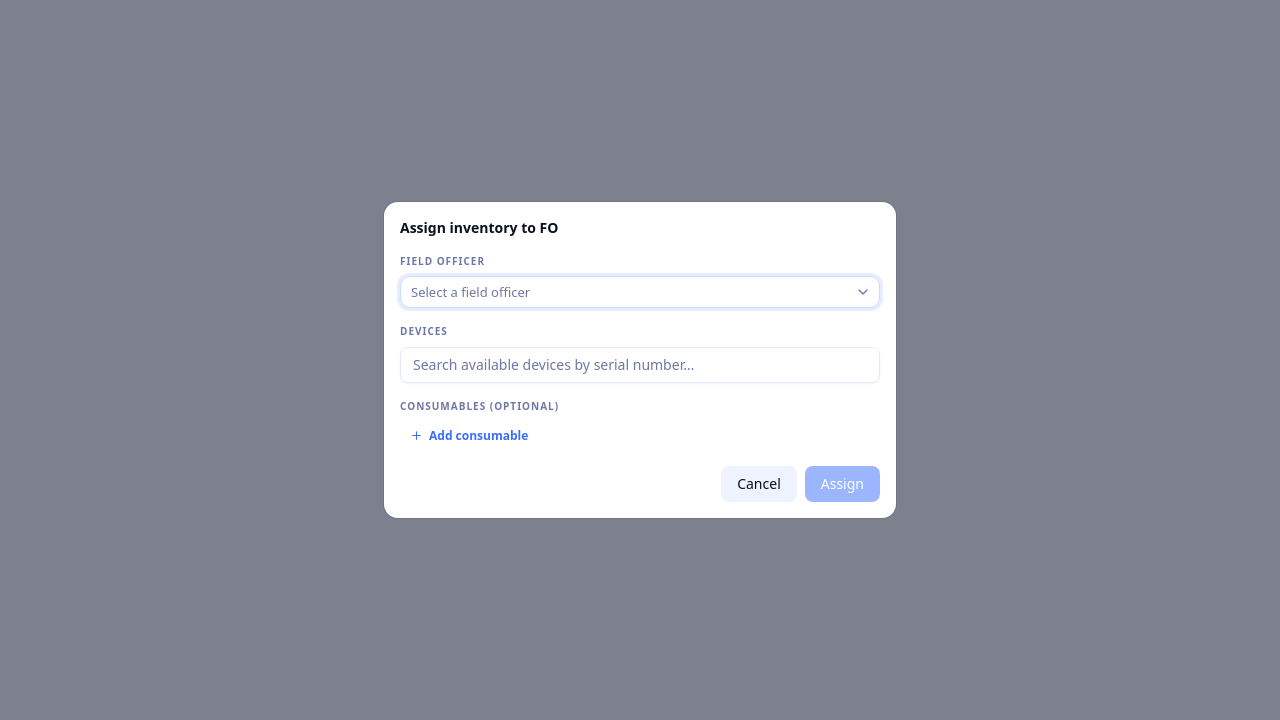
Test: DirectAssignmentModal › flags a duplicate consumable item across two lines with an inline error
Click the button "Add consumable".
click(469, 435)  # box [400,421,538,450]
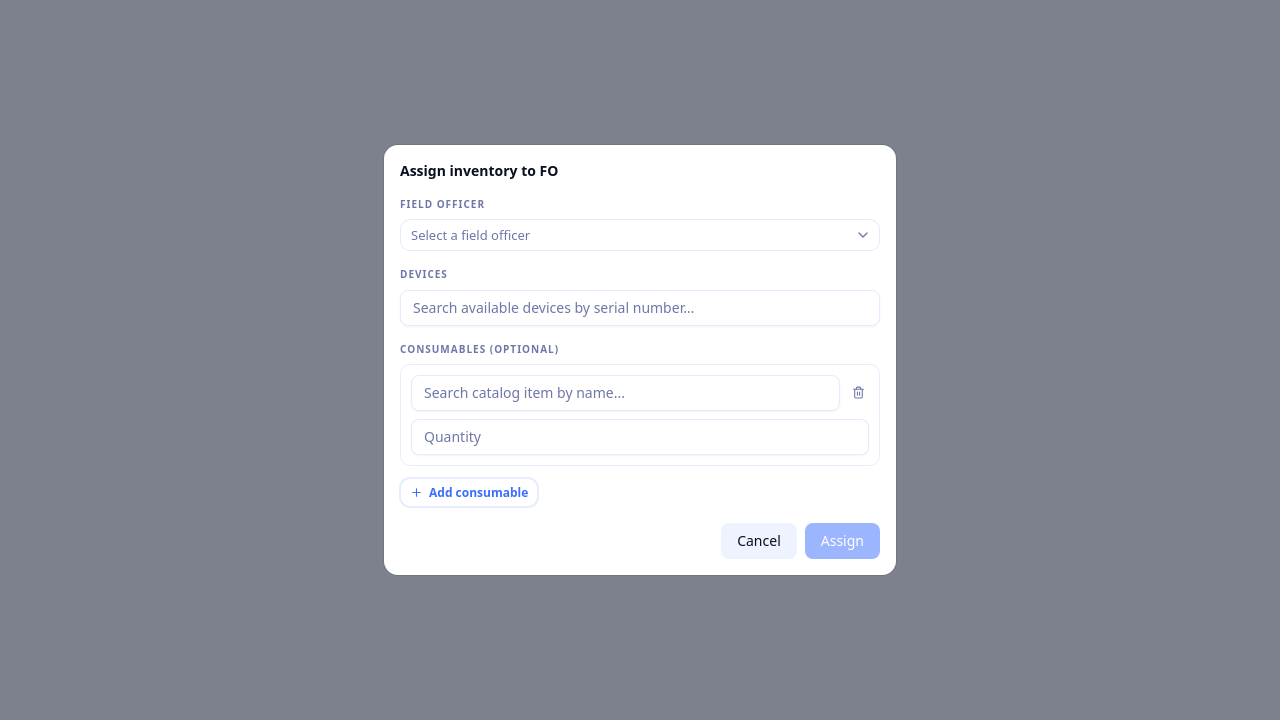
Click the button "Add consumable".
click(469, 492)  # box [400,478,538,507]
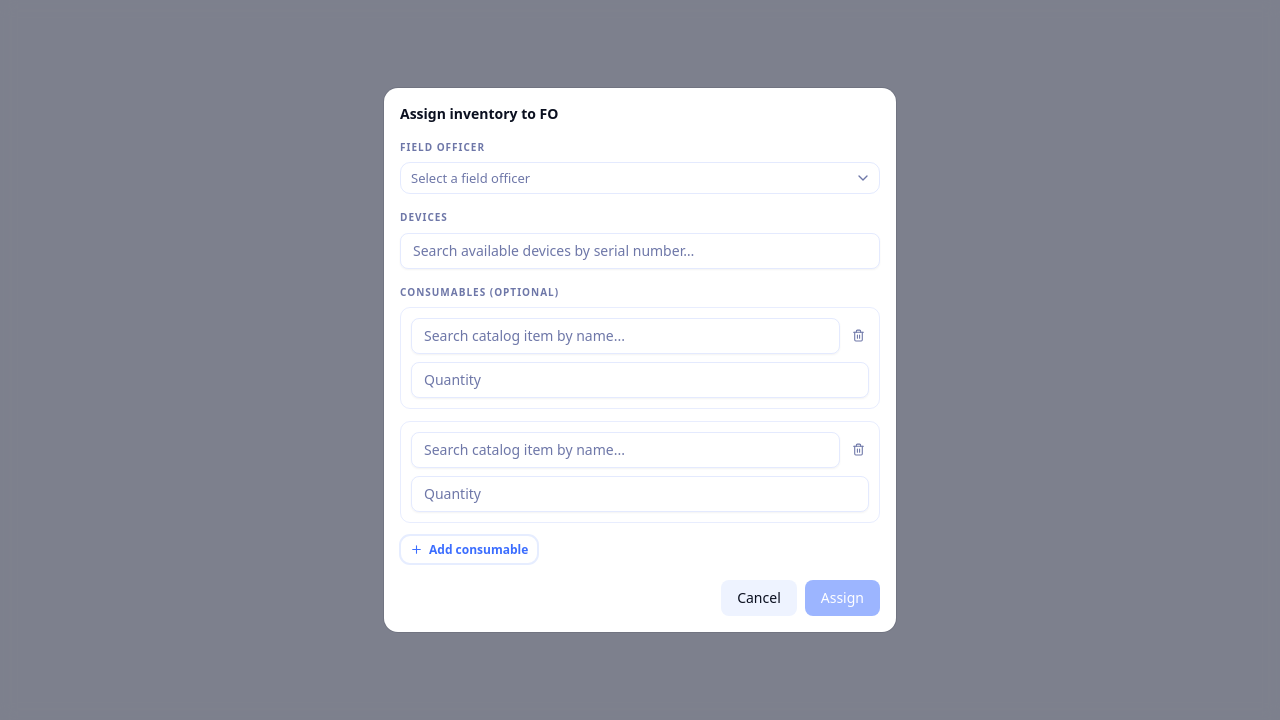
# Line 1's selected-chip display shares the same text as the dropdown option — scope by role.
Type "Gauze" into the 1st field with placeholder "Search catalog item by name...".
click(626, 336); type("Gauze")  # box [411,318,840,354]
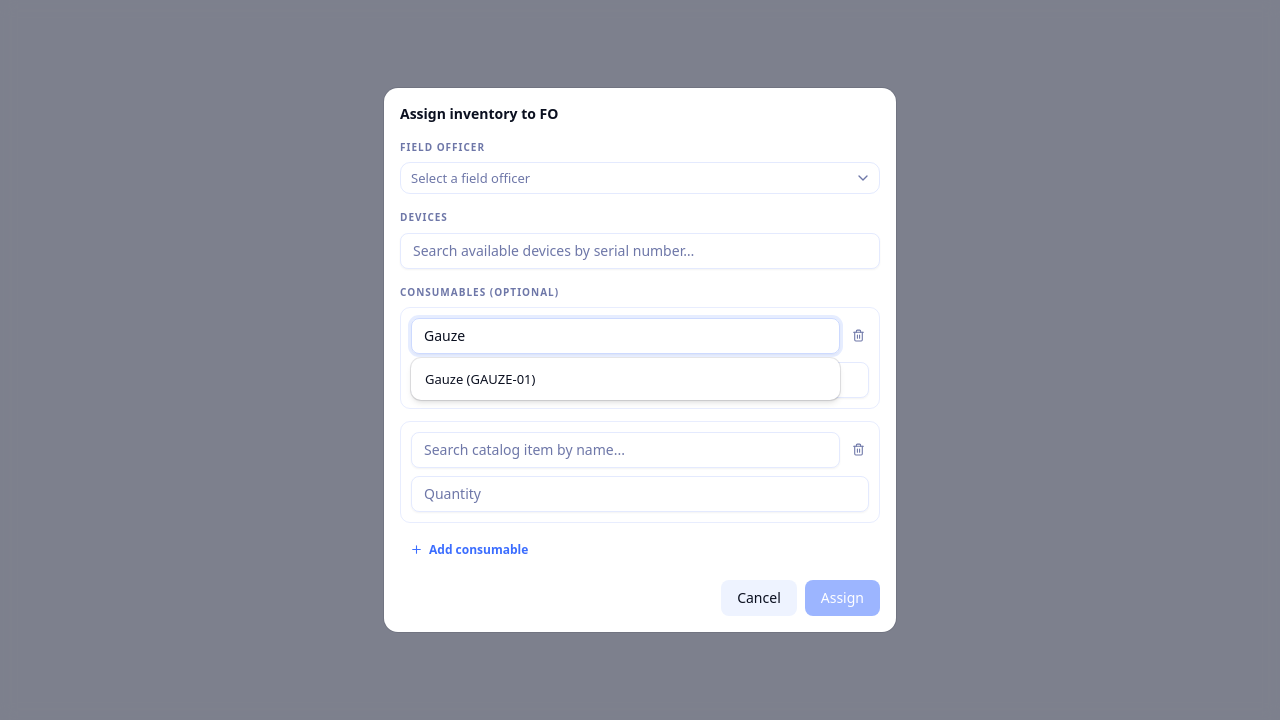
Click the button "Gauze (GAUZE-01)".
click(480, 379)  # box [417,364,834,394]
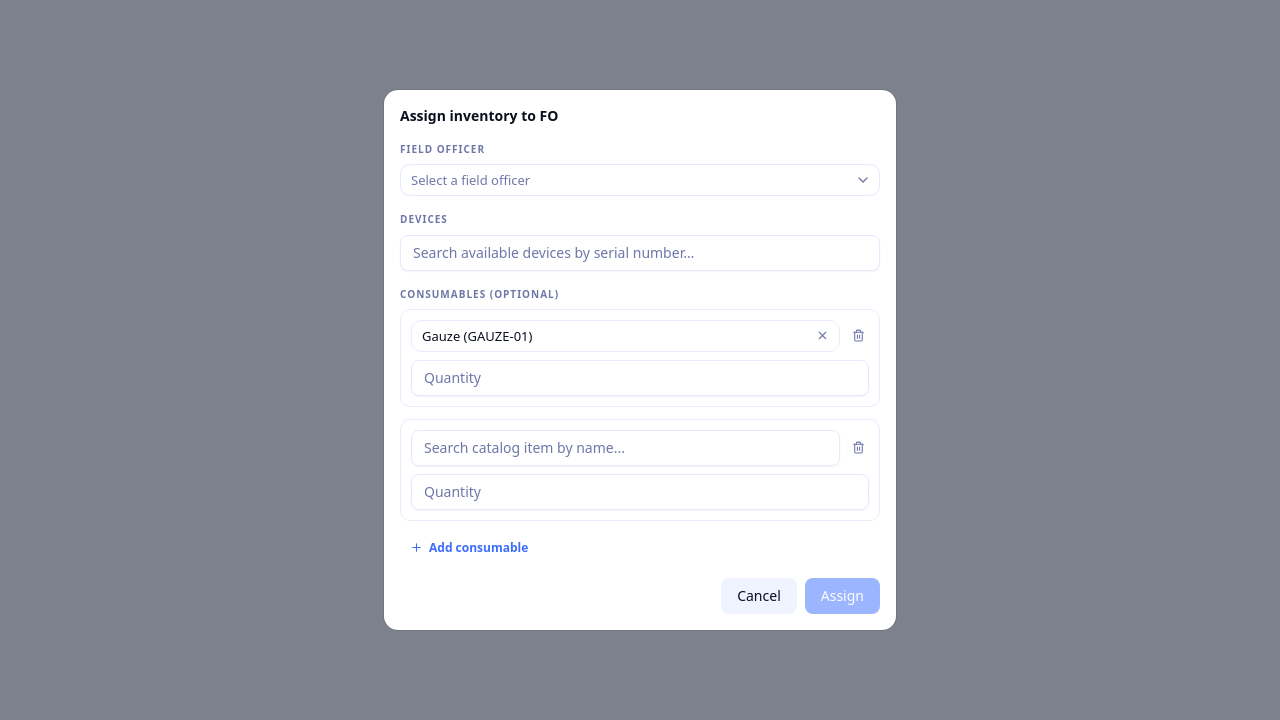
Type "Gauze" into the field with placeholder "Search catalog item by name...".
click(626, 448); type("Gauze")  # box [411,430,840,466]
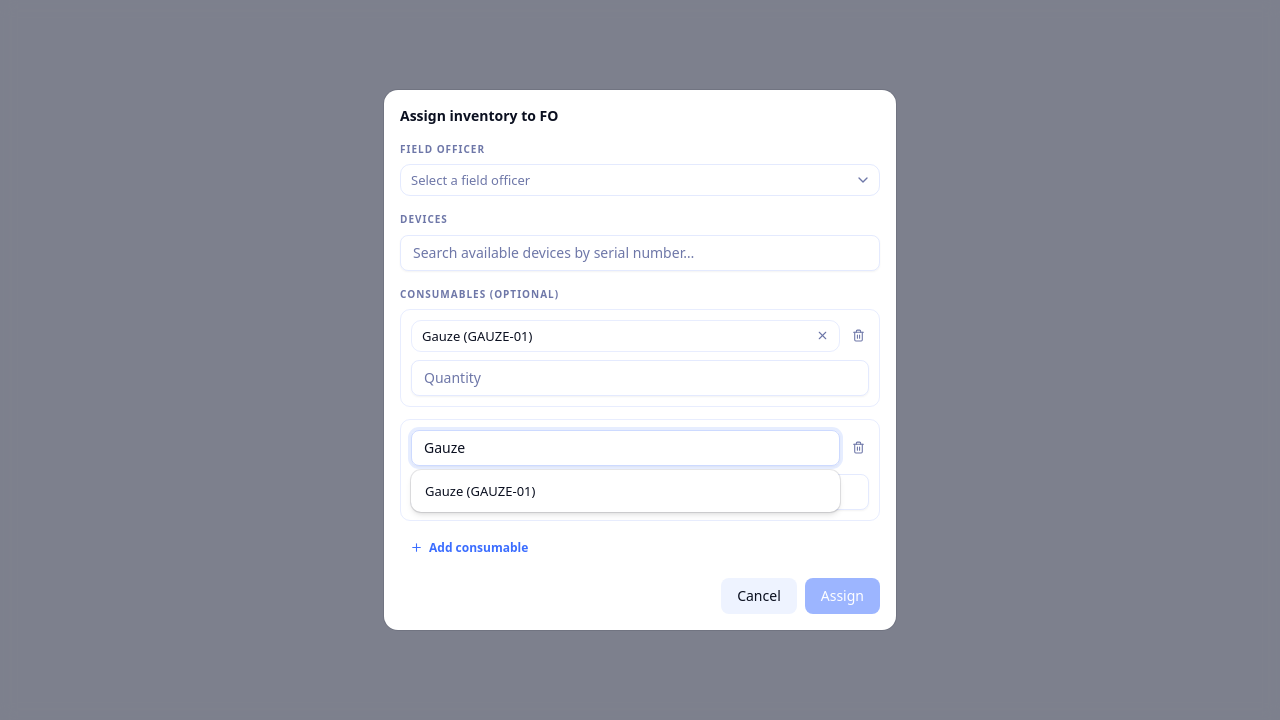
Click the button "Gauze (GAUZE-01)".
click(480, 491)  # box [417,476,834,506]
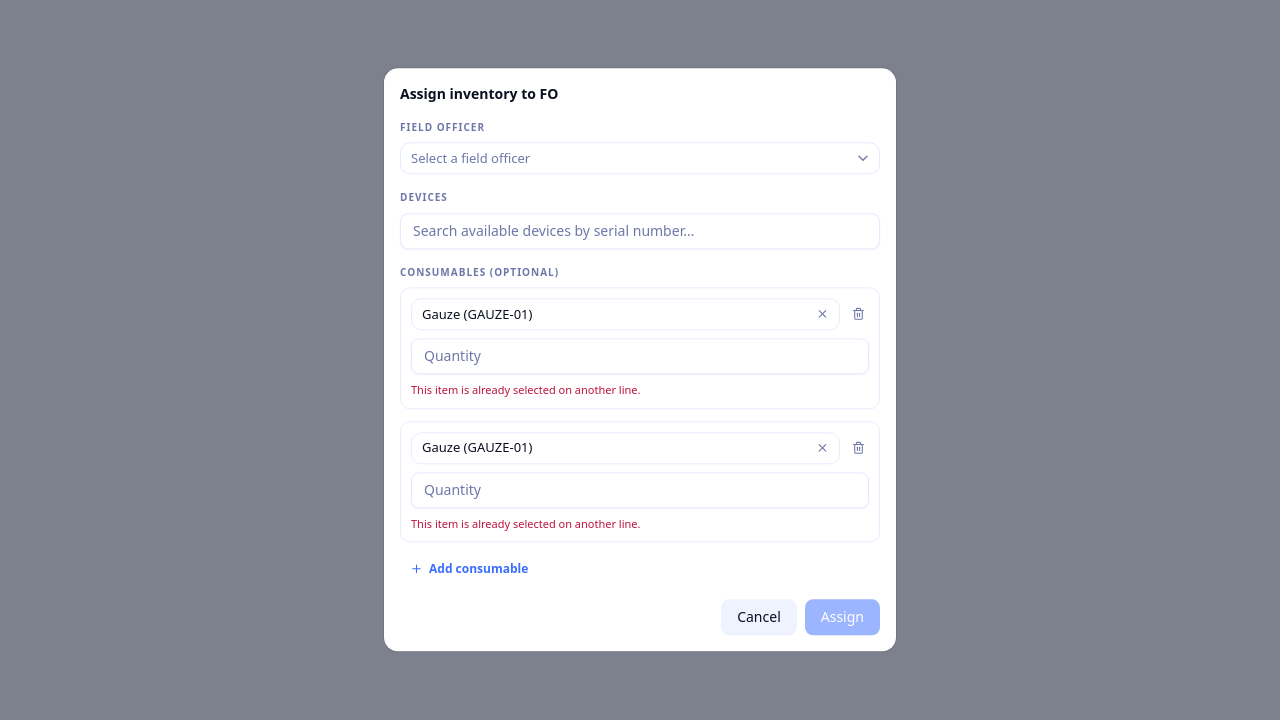
Result: the text "This item is already selected on another line." is shown 2 times at [411,382,640,397]; [411,516,640,531]
